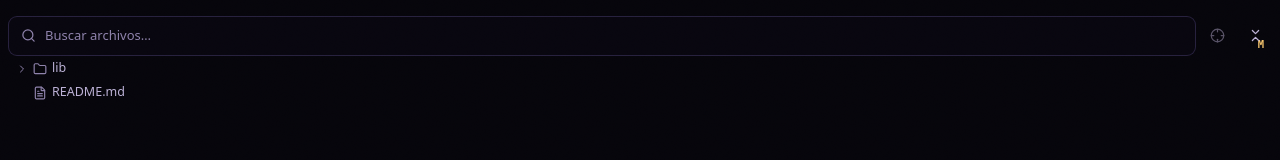
Scenario: a folder that only holds another opens with it, as one row «lib/core»
Click the list item "lib": click(22, 68) [8, 56, 1272, 80]
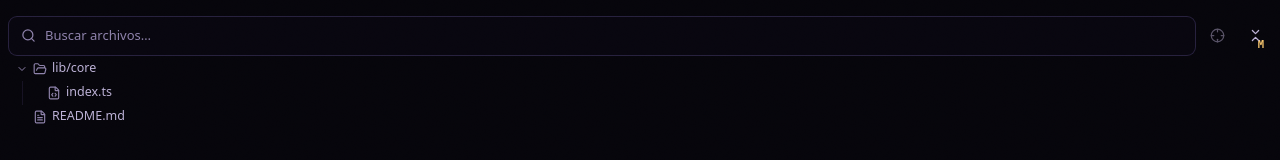
Check: the text "lib/core" is shown, box [52, 59, 96, 76]
Check: the text "index.ts" is shown, box [66, 83, 112, 100]
